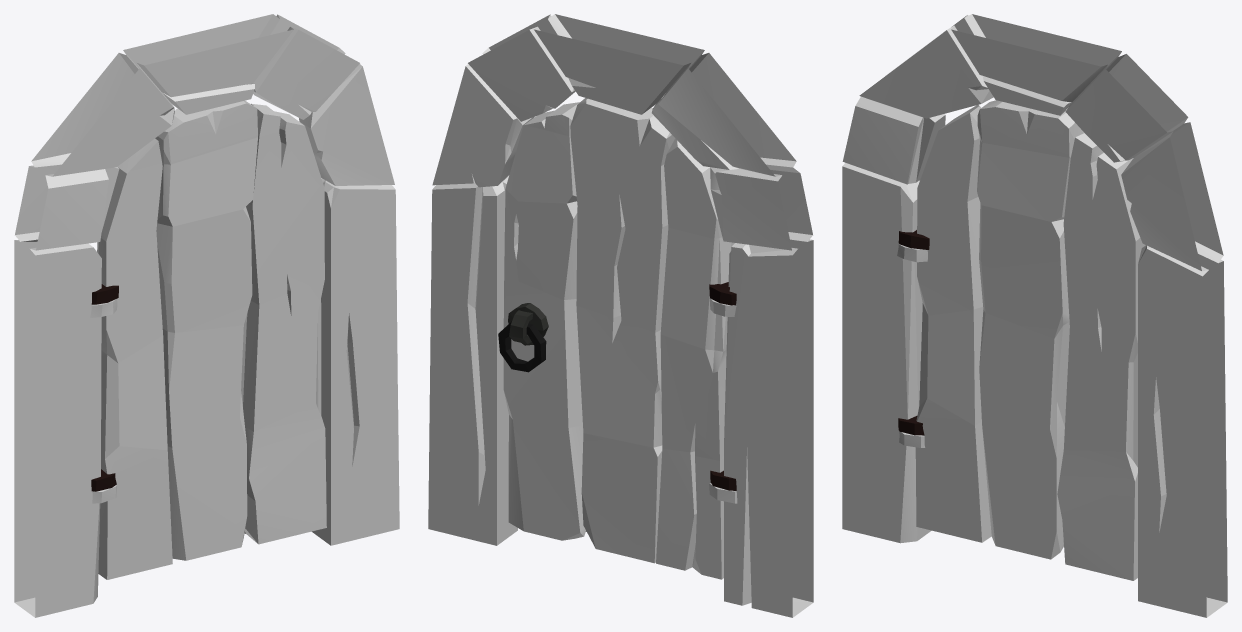
The model's file is NGF_Env_Door_arc_05.fbx.
3 views of the same model, side by side, from view 1: azimuth 30°, elevation 25°; view 2: azimuth 150°, elevation 25°; view 3: azimuth 330°, elevation 25° (orthographic).
Parts seen in each view (by area): view 1: NGF_Env_Door_arc_05, NGF_Env_Door_08, NGF_Env_Hinges_18, NGF_Env_Hinges_15; view 2: NGF_Env_Door_arc_05, NGF_Env_Door_08, NGF_Env_Handle_08, NGF_Env_Handle_attachment_08, NGF_Env_Hinges_18, NGF_Env_Hinges_15; view 3: NGF_Env_Door_arc_05, NGF_Env_Door_08, NGF_Env_Hinges_18, NGF_Env_Hinges_15.
Boxes of the visible parts, x1,y1,x2,y2 form: NGF_Env_Door_arc_05: (14, 14, 399, 617); NGF_Env_Door_08: (97, 100, 326, 579); NGF_Env_Hinges_18: (91, 284, 118, 491); NGF_Env_Hinges_15: (90, 299, 117, 503); NGF_Env_Door_arc_05: (428, 14, 813, 617); NGF_Env_Door_08: (503, 98, 734, 579); NGF_Env_Handle_08: (498, 321, 546, 372); NGF_Env_Handle_attachment_08: (508, 303, 548, 345); NGF_Env_Hinges_18: (709, 282, 736, 490); NGF_Env_Hinges_15: (709, 297, 737, 503); NGF_Env_Door_arc_05: (842, 14, 1227, 617); NGF_Env_Door_08: (915, 100, 1145, 580); NGF_Env_Hinges_18: (898, 230, 929, 435); NGF_Env_Hinges_15: (897, 244, 927, 447).
Bounding box in the file's own units: 2 × 2.76 × 0.336.
Materials: 1 (1 with a texture image).
